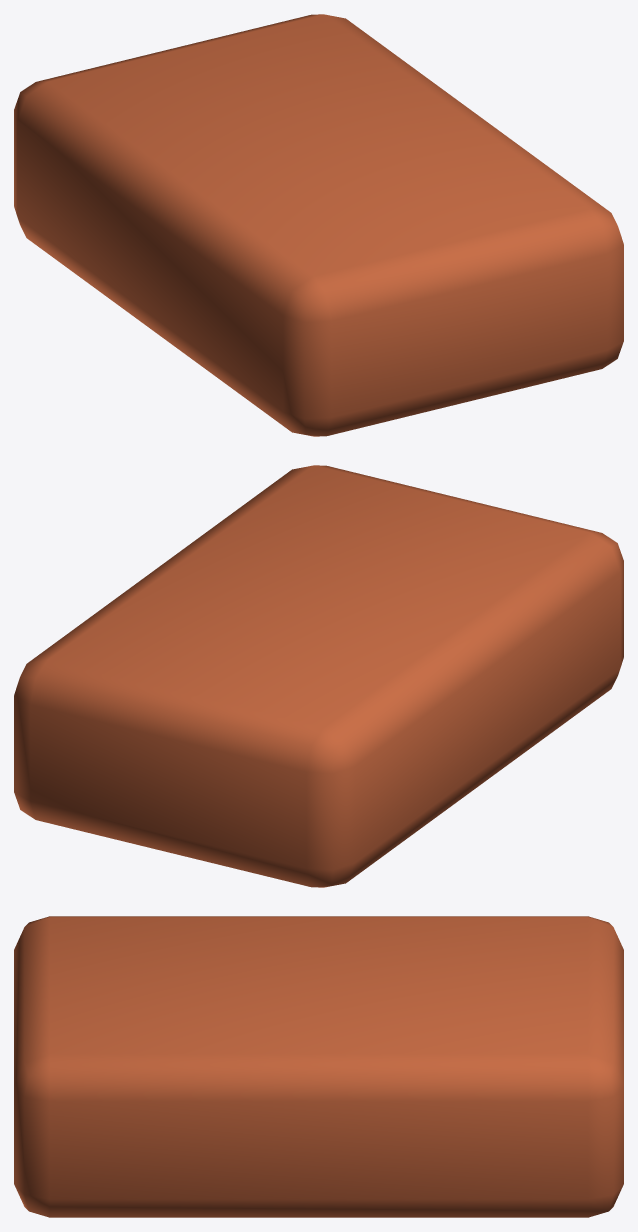
File: portable_inverter_welder_power_switch.glb
3 renders of one model, top to bottom at view 1: azimuth 30°, elevation 25°; view 2: azimuth 150°, elevation 25°; view 3: azimuth 270°, elevation 25°, orthographic.
Visible parts, largest first — view 1: portable_inverter_welder_power_switch; view 2: portable_inverter_welder_power_switch; view 3: portable_inverter_welder_power_switch.
Part boxes in pixels (box(x1,y1,x2,y2)): portable_inverter_welder_power_switch: box(14, 14, 623, 436); portable_inverter_welder_power_switch: box(14, 465, 623, 887); portable_inverter_welder_power_switch: box(14, 916, 623, 1217).
Bounding box in the file's own units: 0.022 × 0.01 × 0.034.
